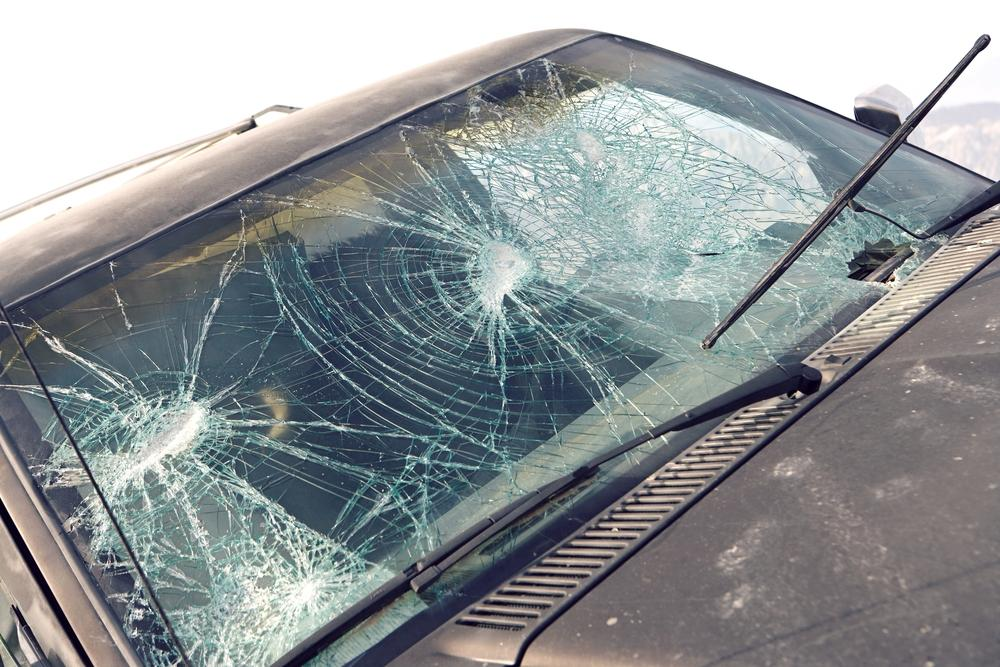glass shatter: (0, 34, 1000, 667)
